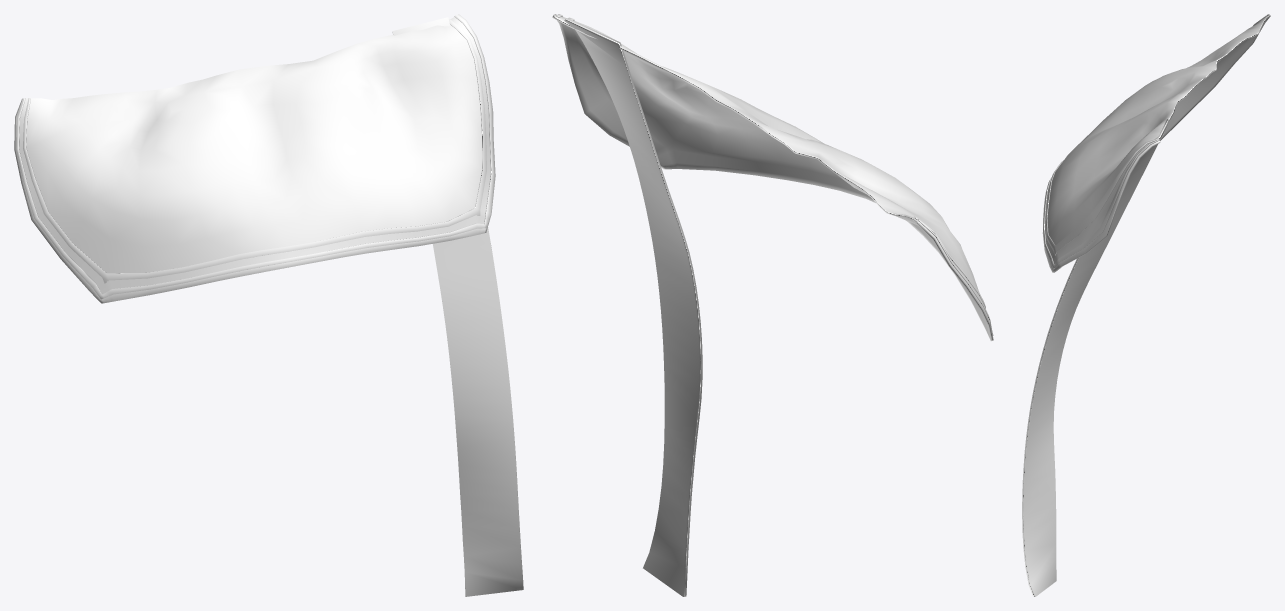
The model's file is Jac_Pocket_LEFT_V2.glb.
3 views of the same model, side by side, from view 1: azimuth 30°, elevation 25°; view 2: azimuth 150°, elevation 25°; view 3: azimuth 270°, elevation 25° (orthographic). The views are drawn at different scales.
Parts seen in each view (by area): view 1: Jac2_Pocket_LEFT_V2.001, Jac_Pocket_Left.001, Jac_Rope_Pocket_LEFT_V2.001; view 2: Jac2_Pocket_LEFT_V2.001, Jac_Pocket_Left.001, Jac_Rope_Pocket_LEFT_V2.001; view 3: Jac2_Pocket_LEFT_V2.001, Jac_Pocket_Left.001, Jac_Rope_Pocket_LEFT_V2.001.
Part boxes in pixels (x1,y1,x2,y2): Jac2_Pocket_LEFT_V2.001: (14, 14, 495, 303); Jac_Pocket_Left.001: (392, 17, 523, 596); Jac_Rope_Pocket_LEFT_V2.001: (16, 14, 494, 299); Jac2_Pocket_LEFT_V2.001: (552, 14, 993, 341); Jac_Pocket_Left.001: (564, 18, 702, 596); Jac_Rope_Pocket_LEFT_V2.001: (556, 14, 993, 335); Jac2_Pocket_LEFT_V2.001: (1042, 14, 1270, 272); Jac_Pocket_Left.001: (1022, 119, 1169, 596); Jac_Rope_Pocket_LEFT_V2.001: (1043, 14, 1268, 269).
Bounding box in the file's own units: 0.2105 × 0.2608 × 0.1269.
3 materials, 3 textured.
